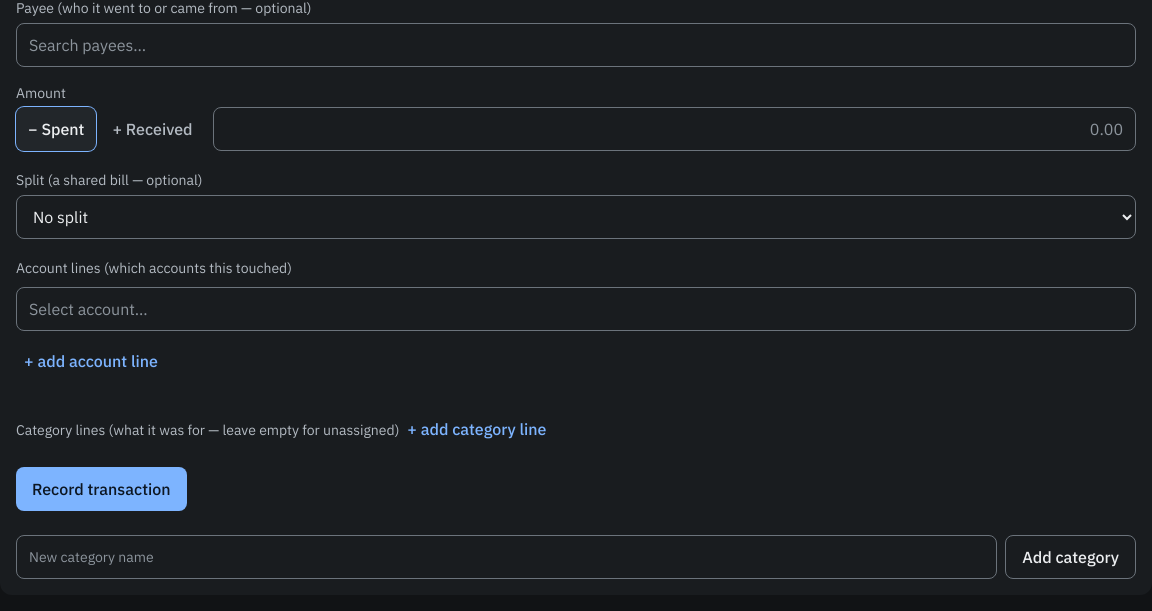
Ledger form: which bill and due date a payment paid › "Remove link" unlinks the payment and does not re-offer the bill
This screenshot has width=1152, height=611.
(page scrolled)
Step 1. Click the button "+ add category line" → [477, 429], box x1=399 y1=407 x2=554 y2=451
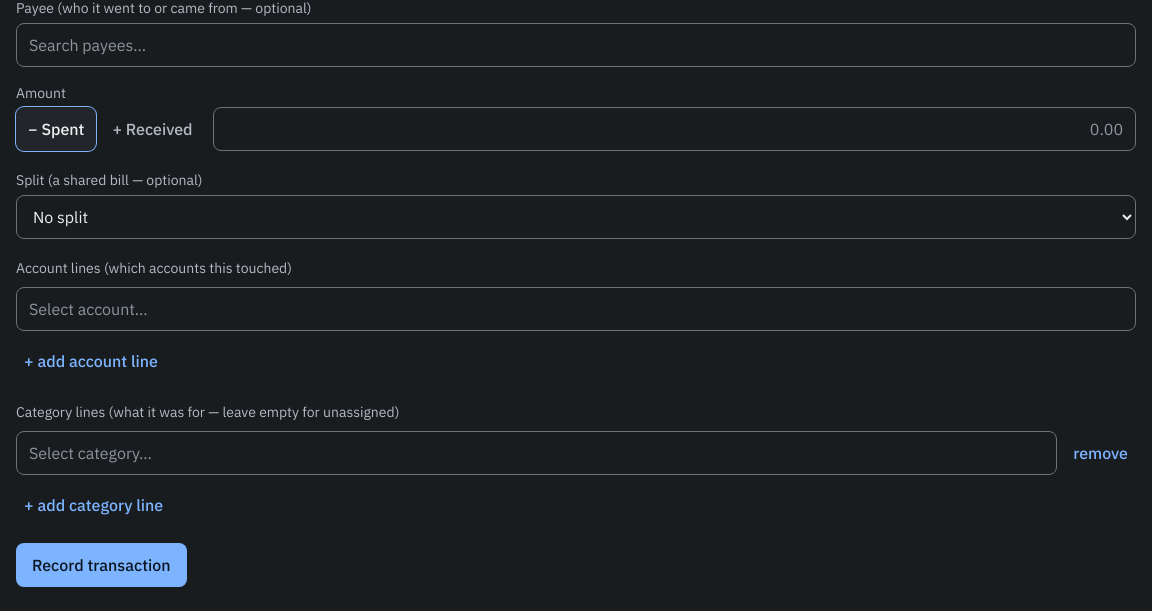
Step 2. Type "Rent" into the field labelled "category" → [537, 453], box x1=16 y1=431 x2=1057 y2=475
(page scrolled)
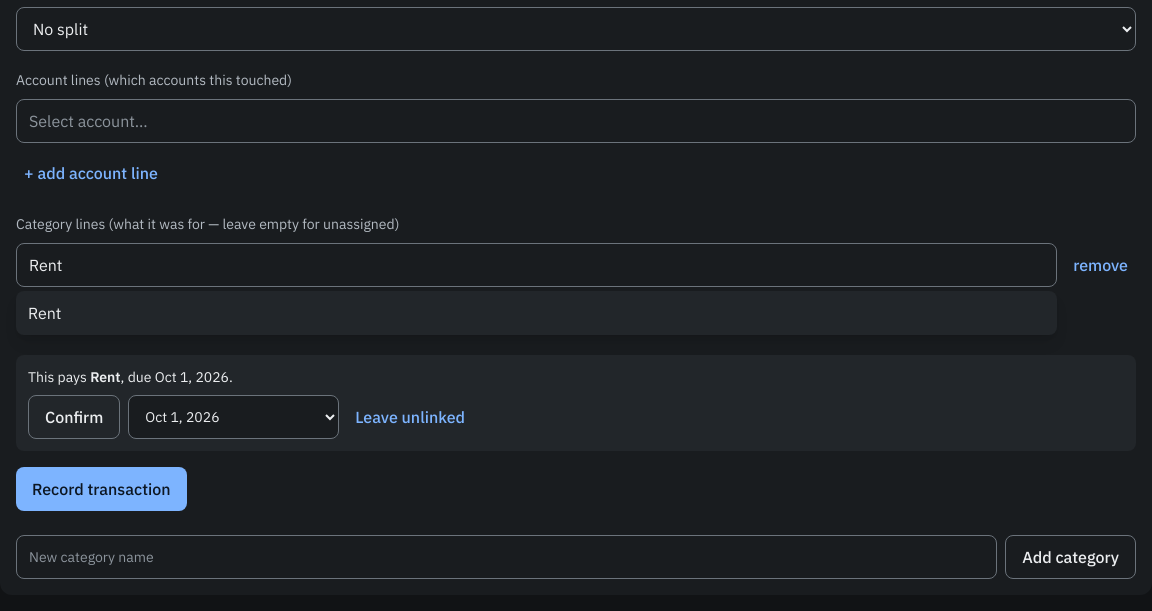
Check: the button "Confirm" is enabled
Step 3. Click the button "Confirm" → [74, 417], box x1=28 y1=395 x2=120 y2=439
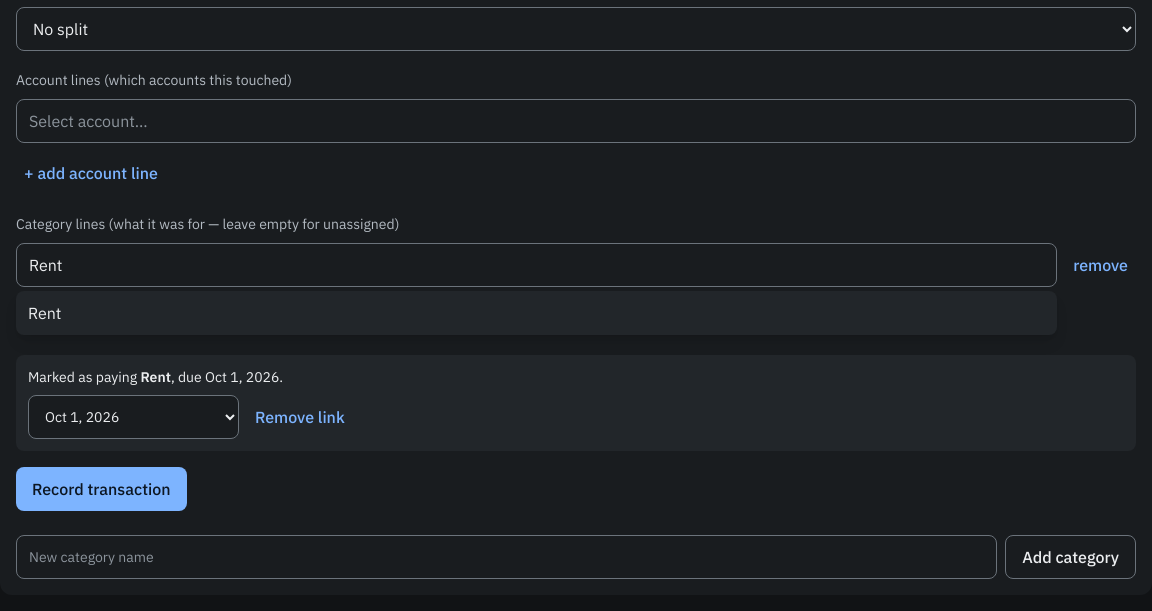
Step 4. Click the button "Remove link" → [300, 417], box x1=247 y1=395 x2=353 y2=439
(page scrolled)
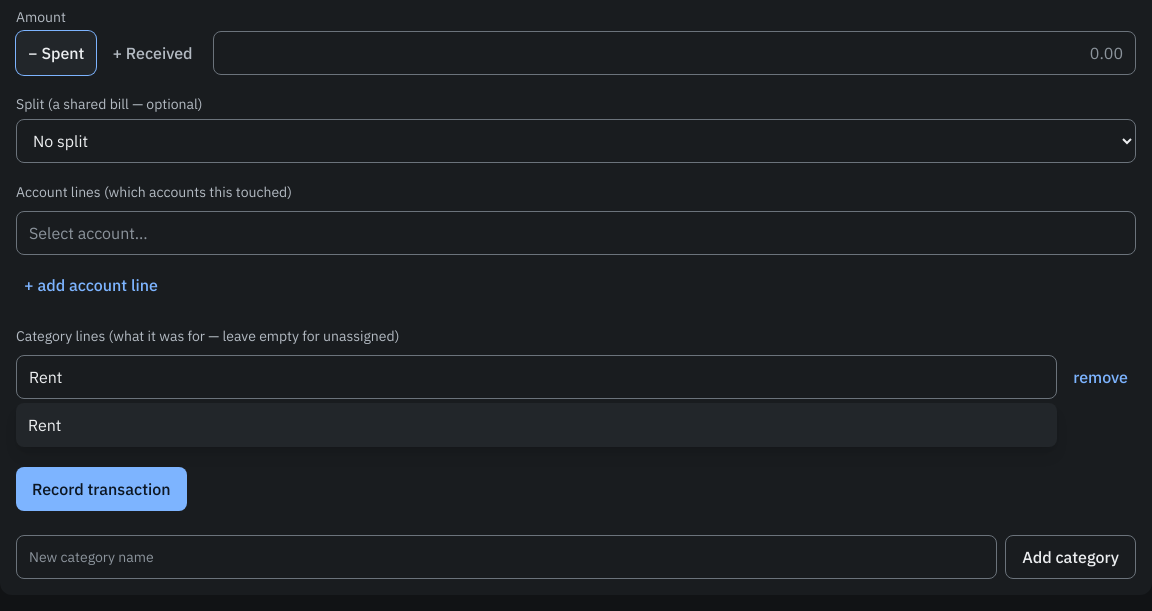
Check: the text "This pays" is not shown
Check: the text "Marked as paying" is gone
